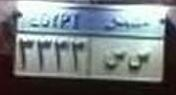3: (34, 38, 52, 72), (53, 40, 69, 71), (70, 40, 86, 70), (19, 37, 32, 68)
seen: (127, 49, 155, 72), (102, 49, 126, 70)
